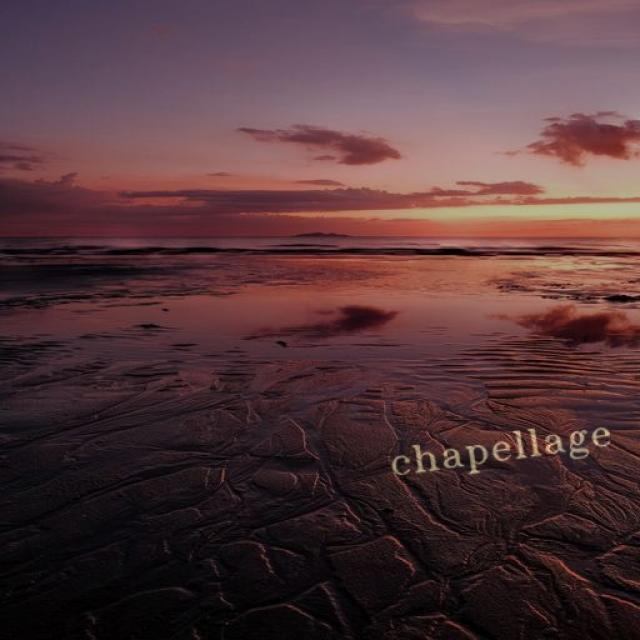watermark: (380, 415, 613, 482)
